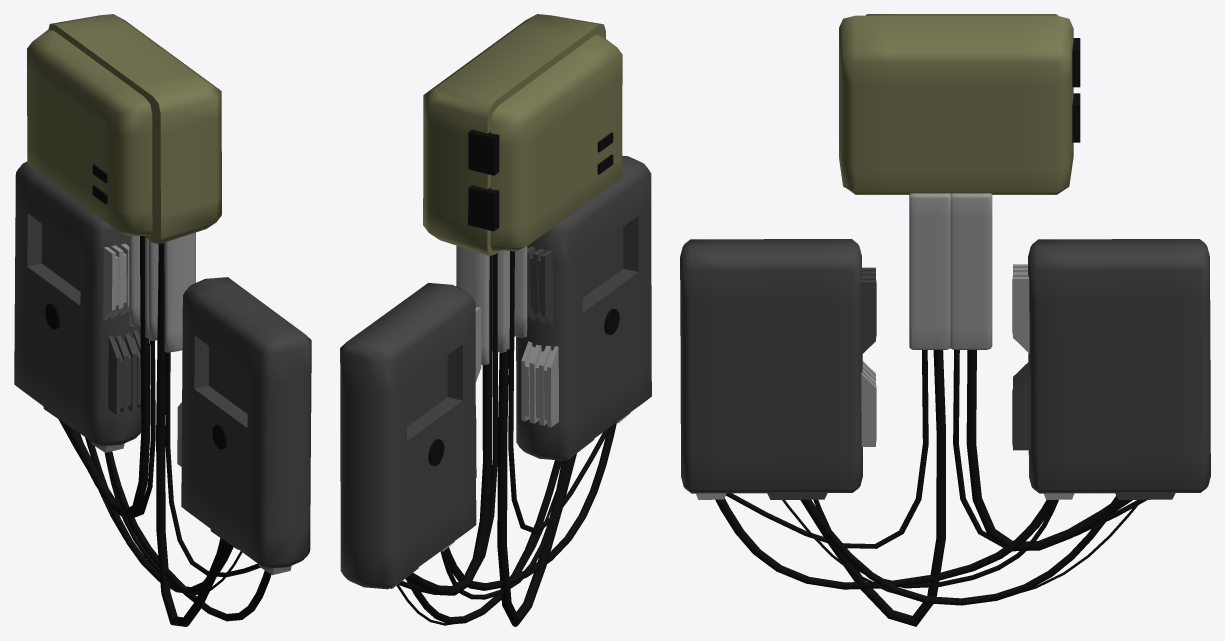
The model's file is stage 3 smart barn controller.fbx.
3 views of the same model, side by side, from view 1: azimuth 30°, elevation 25°; view 2: azimuth 150°, elevation 25°; view 3: azimuth 270°, elevation 25° (orthographic). The views are drawn at different scales.
Visible parts, largest first — view 1: Box002; view 2: Box002; view 3: Box002.
Part boxes in pixels (x1,y1,x2,y2): Box002: (14,14,311,626); Box002: (340,14,651,626); Box002: (680,14,1210,626).
Size of the model in its own units: 27.57 by 110 by 134.
